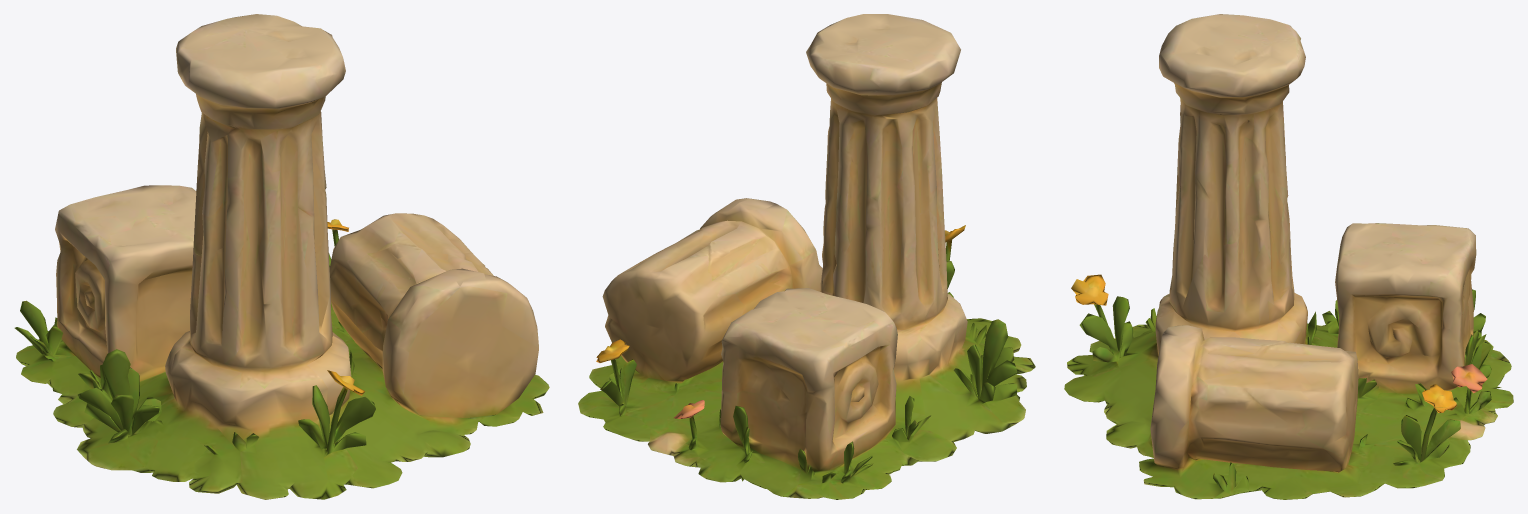
Rendered from ruin.glb.
The picture shows the model from 3 angles, left to right: view 1: azimuth 30°, elevation 25°; view 2: azimuth 150°, elevation 25°; view 3: azimuth 270°, elevation 25°; orthographic projection. The views are drawn at different scales.
Visible parts, largest first — view 1: tripo_node_8524140e-0e04-42ee-81dd-efa457652956; view 2: tripo_node_8524140e-0e04-42ee-81dd-efa457652956; view 3: tripo_node_8524140e-0e04-42ee-81dd-efa457652956.
Boxes of the visible parts, box(x1,y1,x2,y2) form: tripo_node_8524140e-0e04-42ee-81dd-efa457652956: box(14, 14, 549, 499); tripo_node_8524140e-0e04-42ee-81dd-efa457652956: box(578, 14, 1035, 499); tripo_node_8524140e-0e04-42ee-81dd-efa457652956: box(1064, 14, 1513, 499).
Bounding box in the file's own units: 0.9893 × 0.8558 × 1.
Materials: 1 (1 with a texture image).
